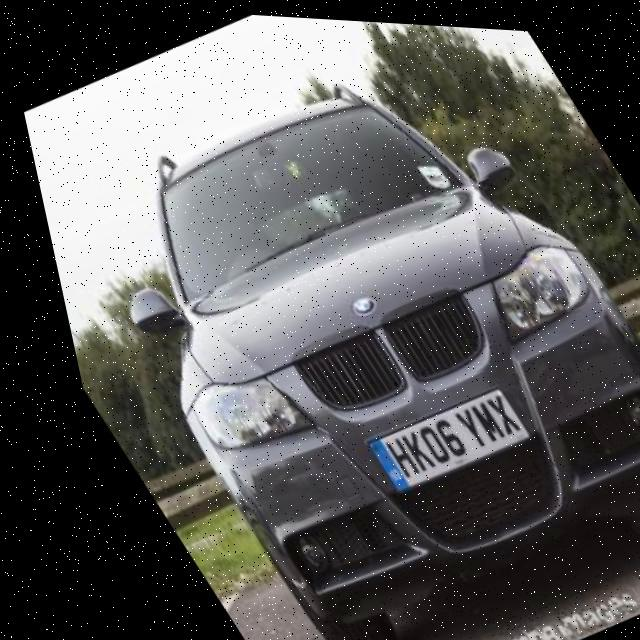license_plate: (337, 374, 524, 495)
